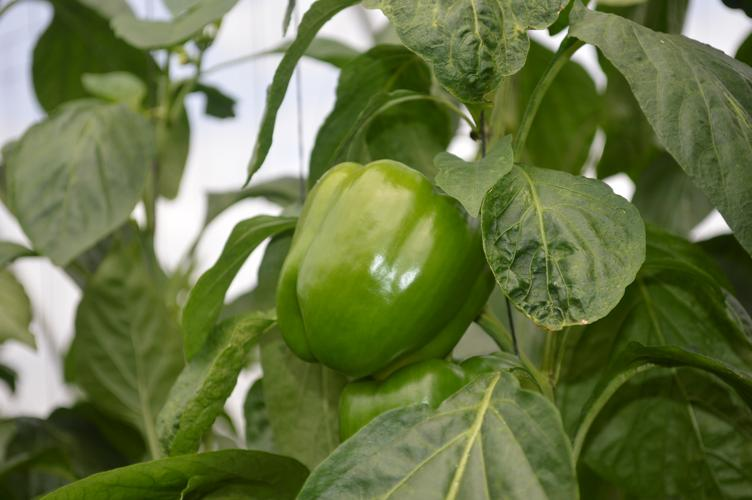BellPepper: (277, 161, 483, 380), (332, 360, 513, 438)
